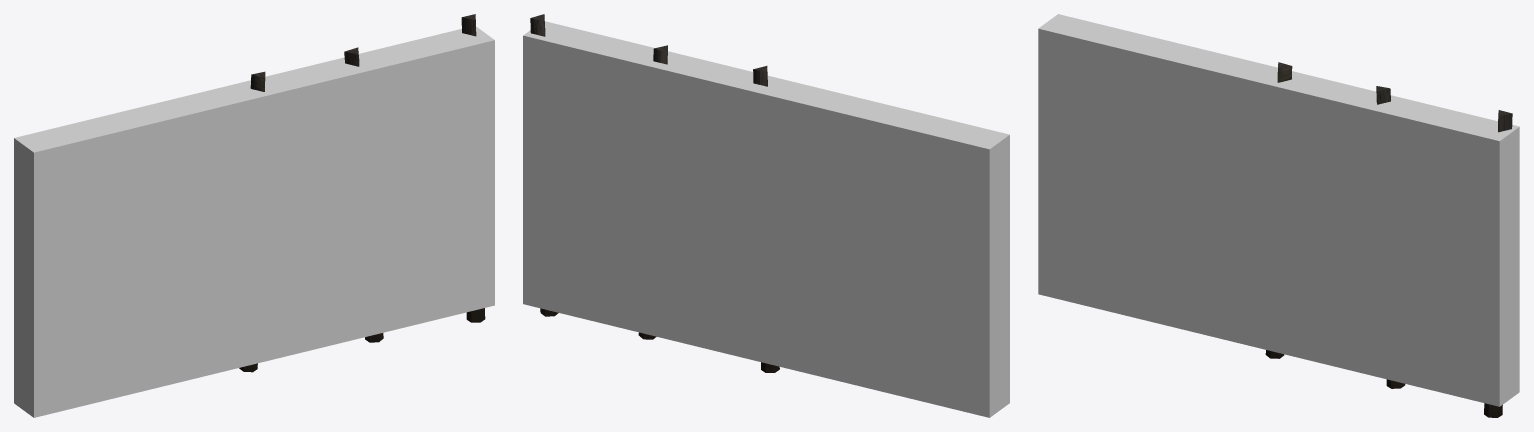
Rendered from prop_fence_wattle_2m_tex.glb.
The picture shows the model from 3 angles, left to right: view 1: azimuth 30°, elevation 25°; view 2: azimuth 150°, elevation 25°; view 3: azimuth 330°, elevation 25°; orthographic projection.
Parts seen in each view (by area): view 1: col_fence, fence_wattle; view 2: col_fence, fence_wattle; view 3: col_fence, fence_wattle.
Part boxes in pixels (x1=…): col_fence: x1=14, y1=26, x2=494, y2=417; fence_wattle: x1=239, y1=14, x2=485, y2=372; col_fence: x1=523, y1=21, x2=1009, y2=417; fence_wattle: x1=530, y1=14, x2=779, y2=372; col_fence: x1=1038, y1=14, x2=1519, y2=406; fence_wattle: x1=1265, y1=62, x2=1512, y2=417.
Bounding box in the file's own units: 2 × 1.23 × 0.15.
Materials: 2 (2 with a texture image).
